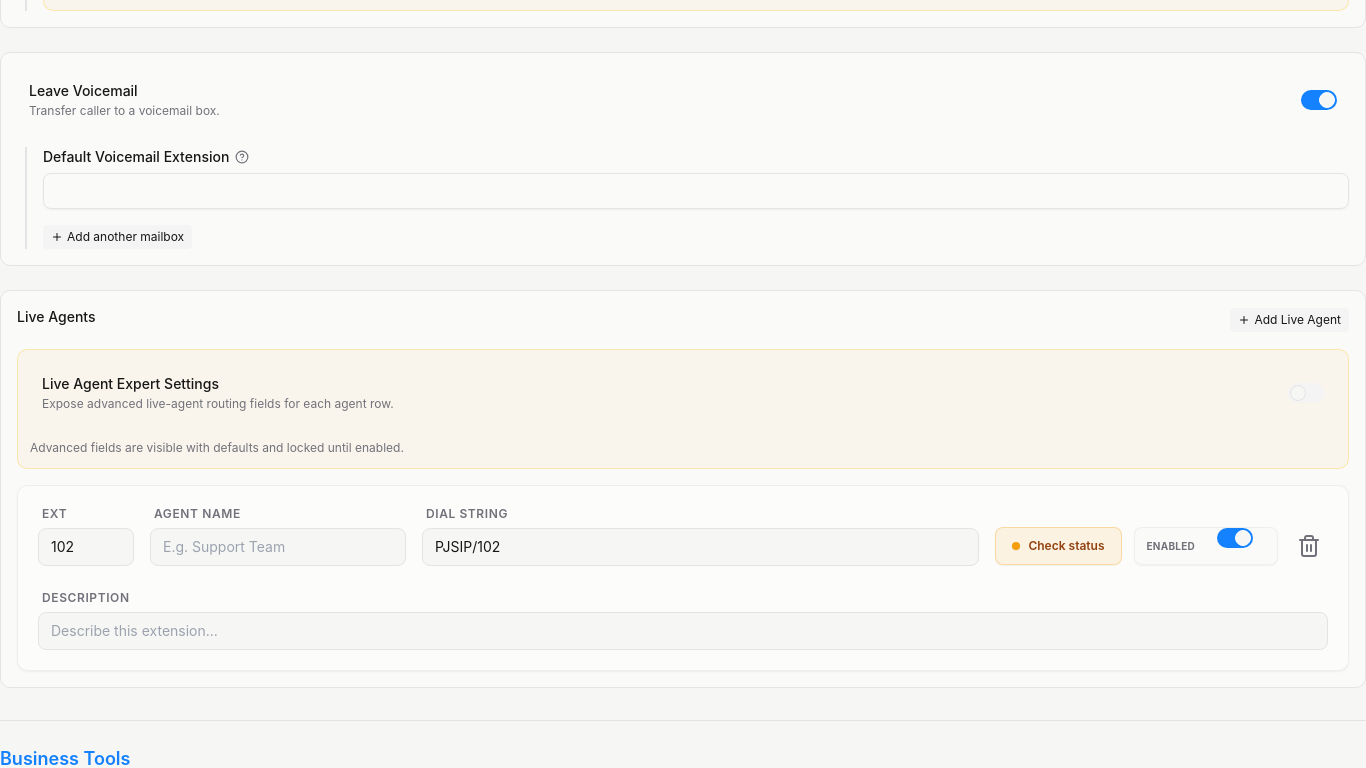
ToolForm — per-extension availability signals (issue #577) › shows the auto-detection note for each internal extension
(page scrolled)
Click the 1st checkbox labelled "Live Agent Expert Settings" at (130, 384), box [42,374,219,394]
(page scrolled)
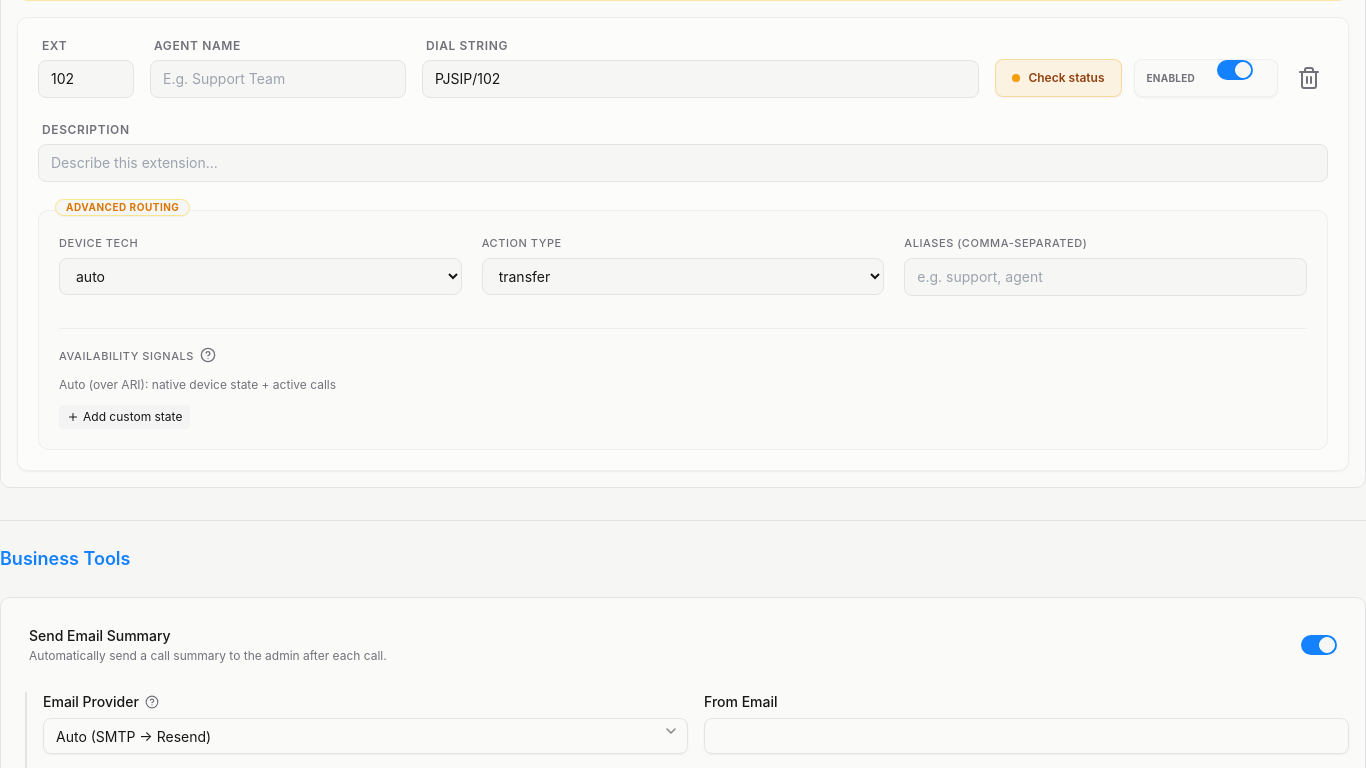
Check: the text "Auto (over ARI): native device state + active calls" is shown, box [59,376,336,392]
